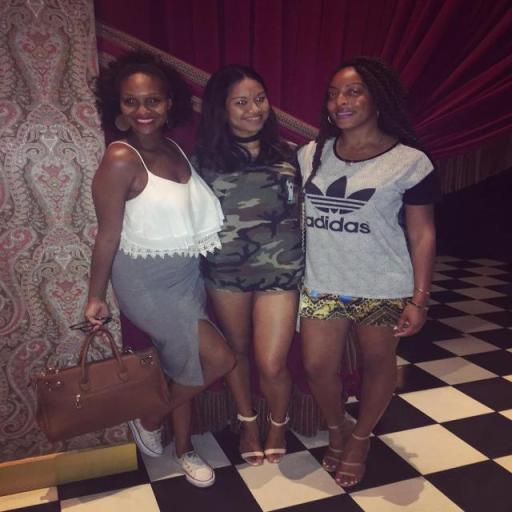Adidas: (300, 172, 378, 235)
